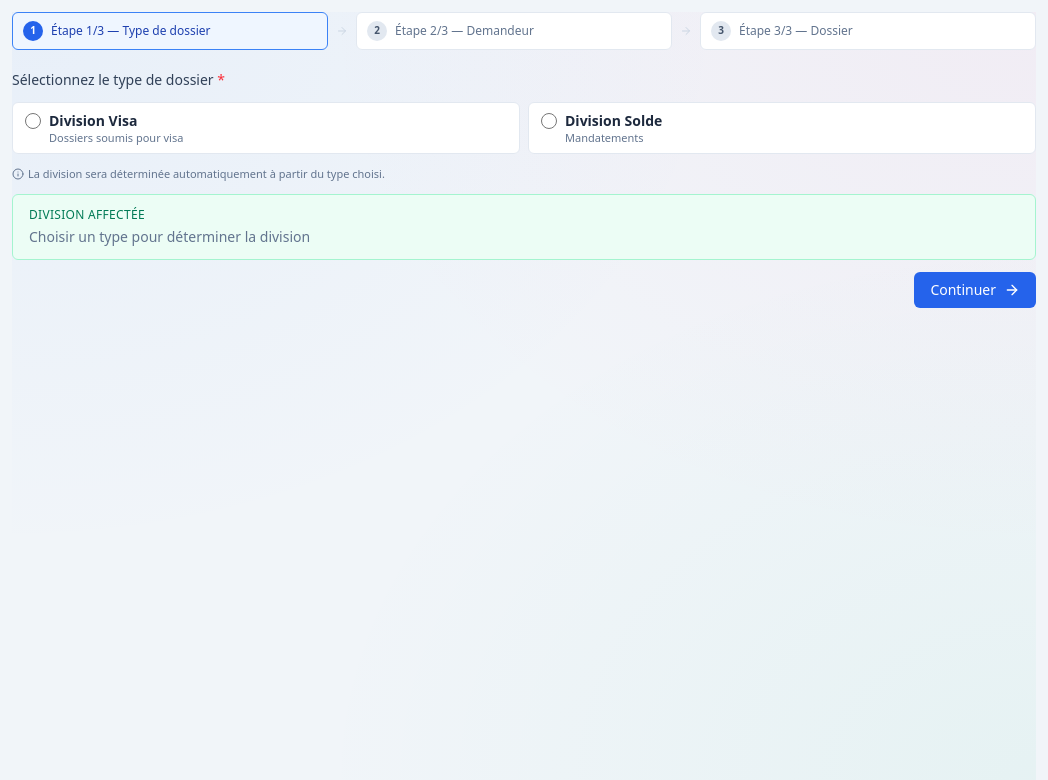
Test: Création d'un dossier VISA — première étape › demande aussi le type d’opération aux autres divisions
Expected: the text "Division Solde" is shown, [565,111,662,131]
Click the radio button labelled "Division Solde Mandatements" at {"x": 549, "y": 121}, box [541,113,557,129]
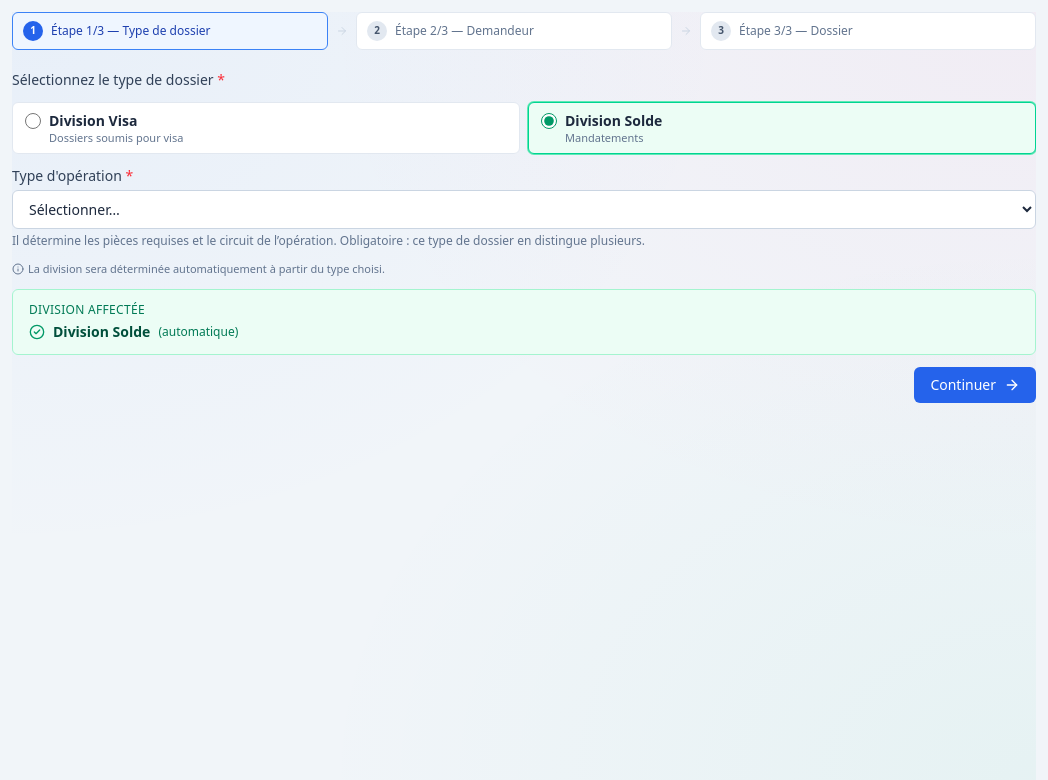
Click the button "Continuer" at {"x": 975, "y": 385}, box [914,367,1036,403]
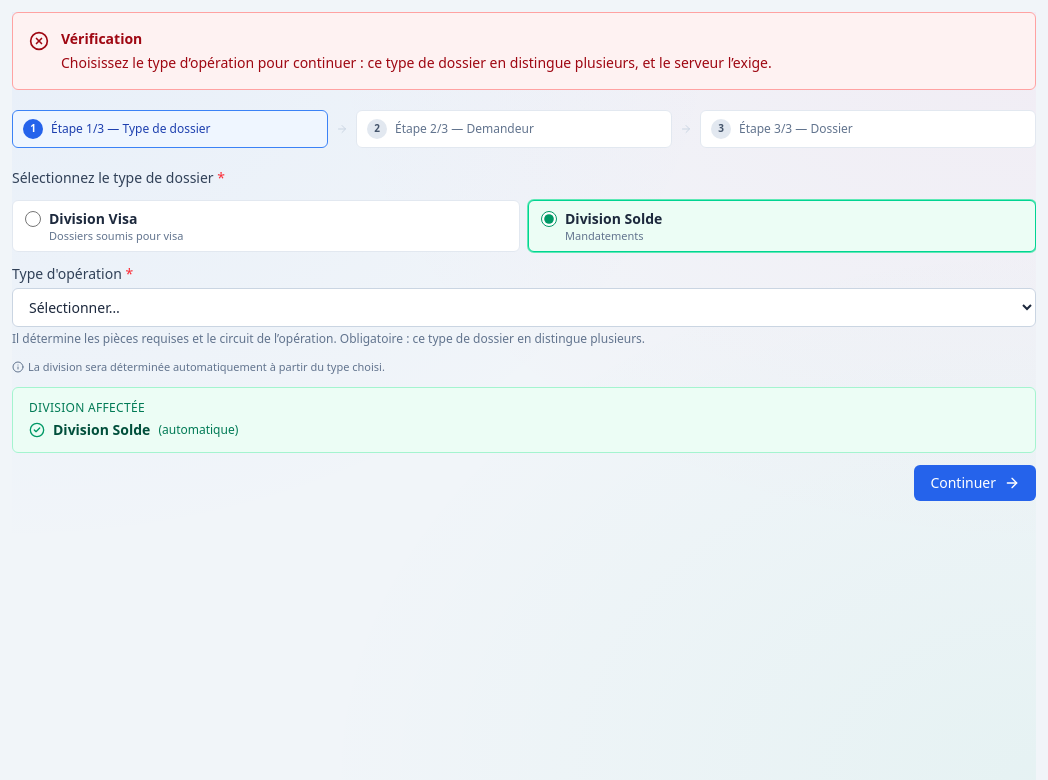
Now the message shows "type d’opération", box [61,53,772,72]
